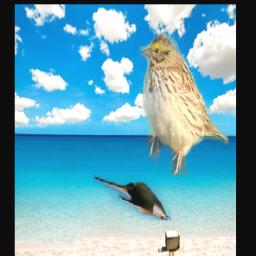Cuckoo: (93, 175, 172, 220)
Sparrow: (138, 30, 229, 175)
